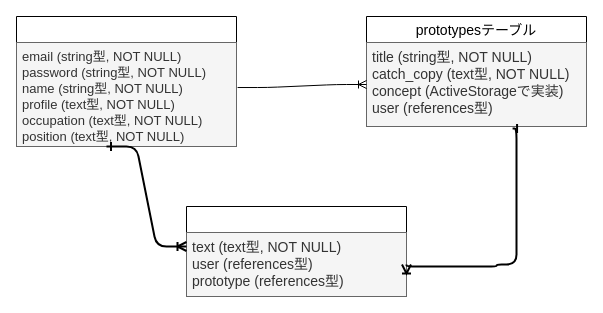
The diagram is 603 pixels wide and 313 high, and some of its shapes have lost their labels. The shapes that lost their labels are listed below. From the top down, each one's box as (x1, y1, x2, y2) in pixels, then its label:
(16, 16, 236, 146): usersテーブル
(186, 206, 406, 296): commentsテーブル
